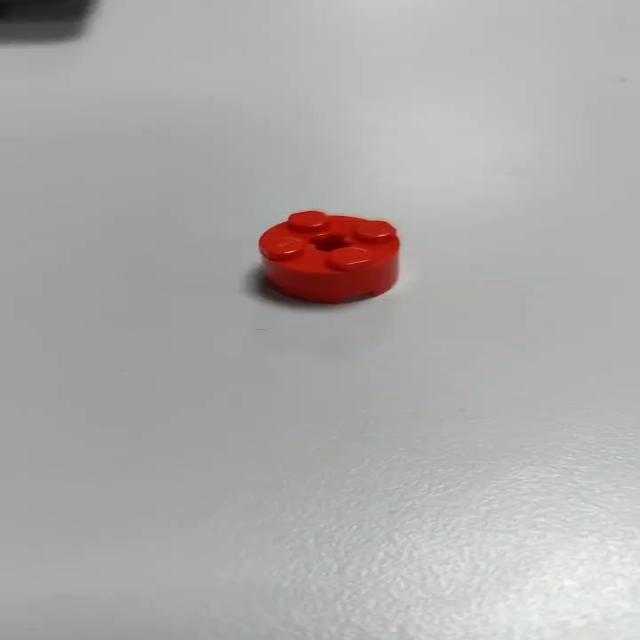S2x2x1: (246, 210, 401, 308)
